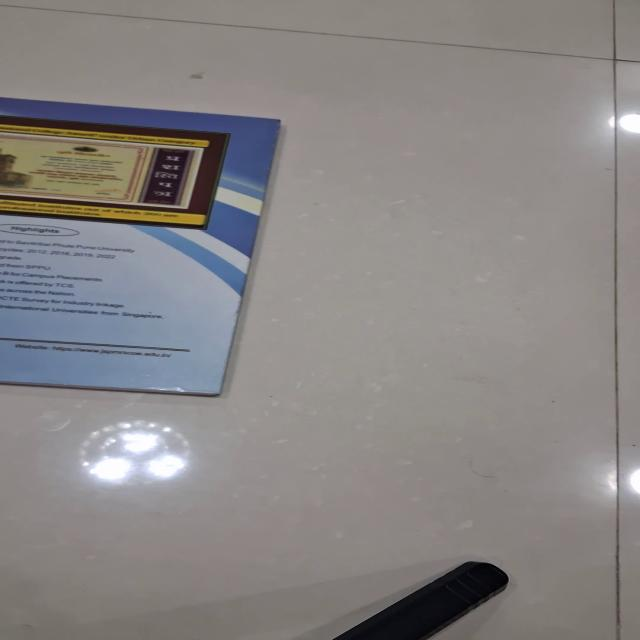paper: (1, 98, 280, 396)
